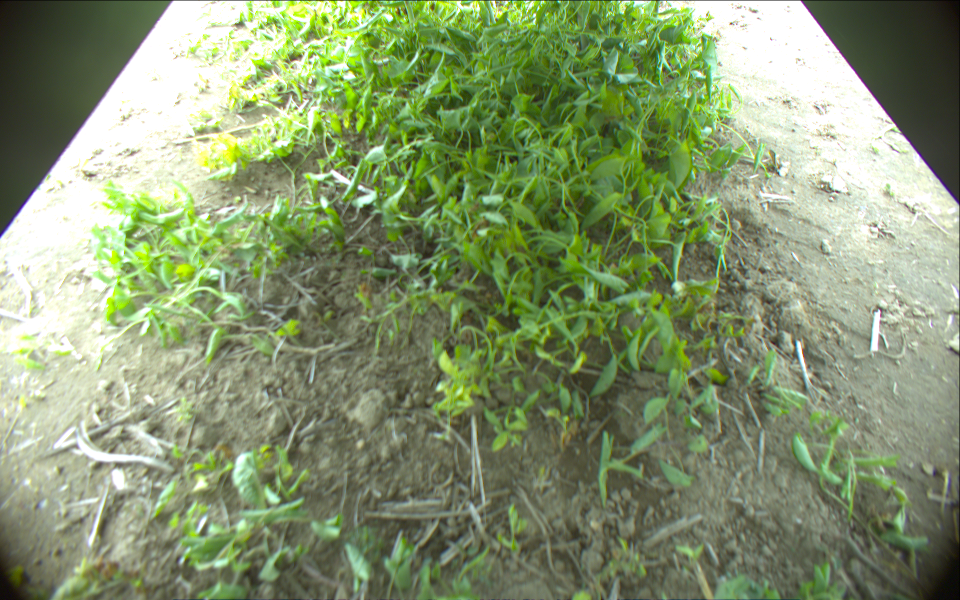aspa: (402, 1, 415, 24), (483, 1, 494, 24)
